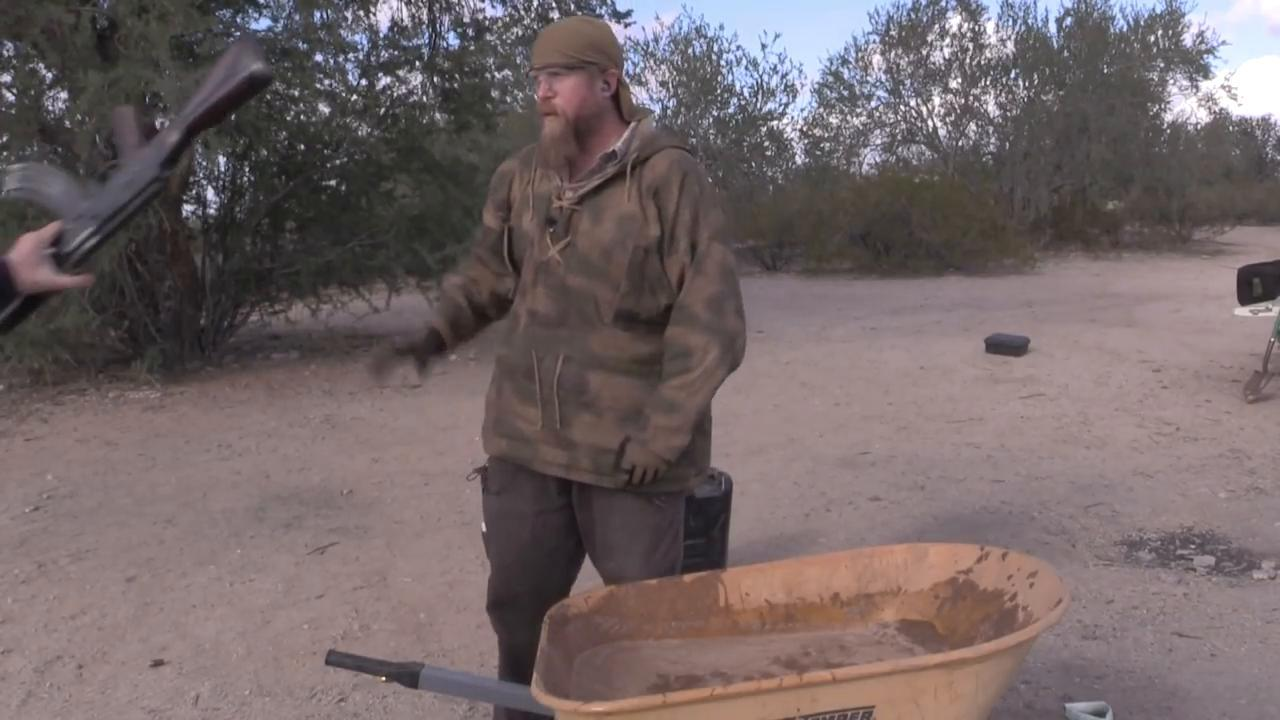AK47 Rifle: (1, 33, 273, 335)
